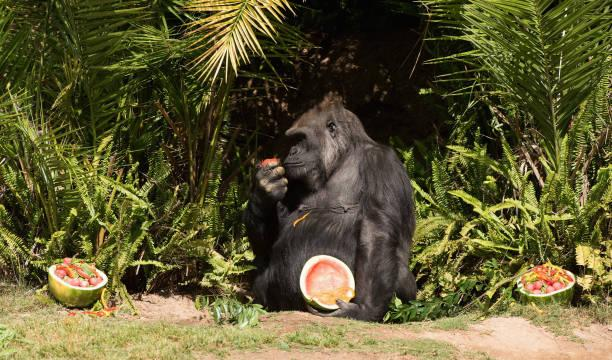gorille_Autres: (248, 78, 434, 316)
